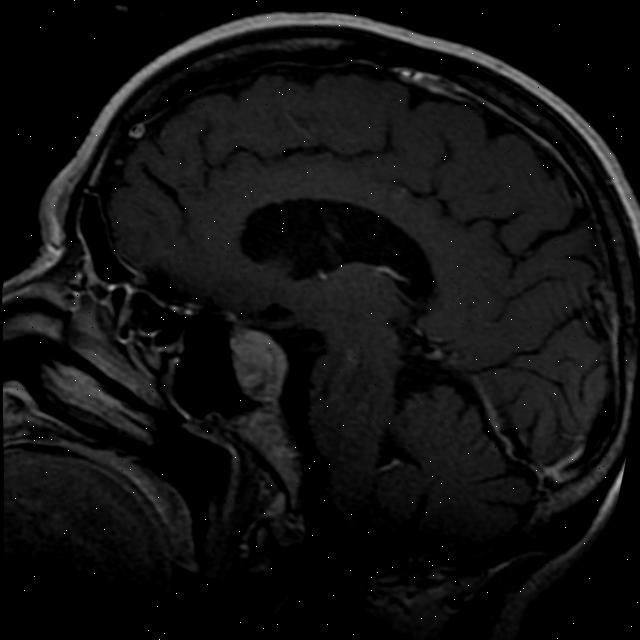Pituitary: (215, 320, 297, 410)
